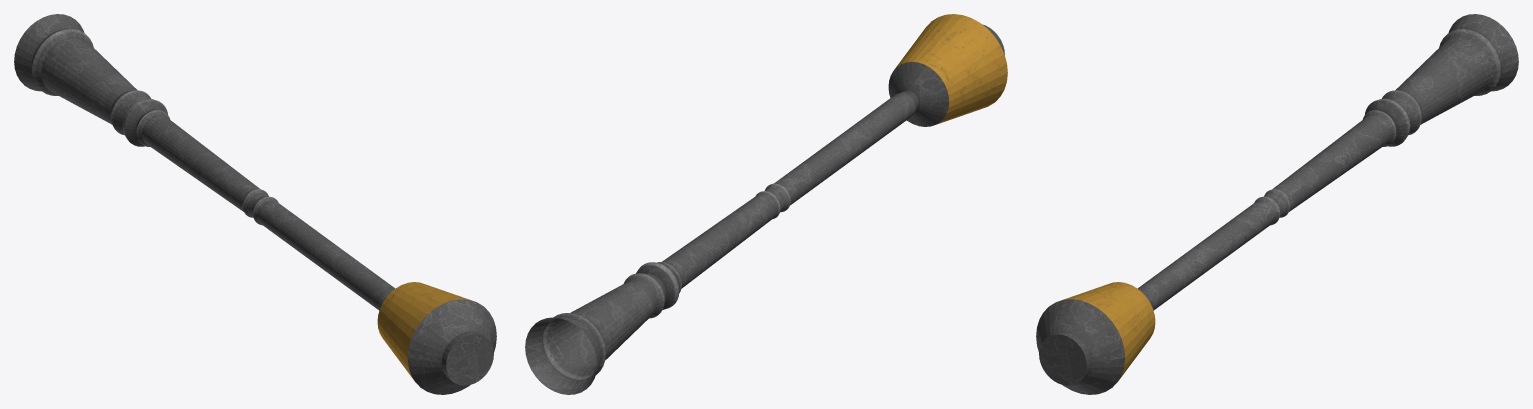
The model's file is lamppost01.obj.
The picture shows the model from 3 angles, left to right: view 1: azimuth 30°, elevation 25°; view 2: azimuth 150°, elevation 25°; view 3: azimuth 330°, elevation 25°; orthographic projection.
Parts seen in each view (by area): view 1: Post_Cylinder.000; view 2: Post_Cylinder.000; view 3: Post_Cylinder.000.
Part boxes in pixels (bbox=[...]): Post_Cylinder.000: bbox=[14, 14, 496, 394]; Post_Cylinder.000: bbox=[525, 14, 1007, 394]; Post_Cylinder.000: bbox=[1036, 14, 1518, 394].
Size of the model in its own units: 145 by 145 by 1180.
